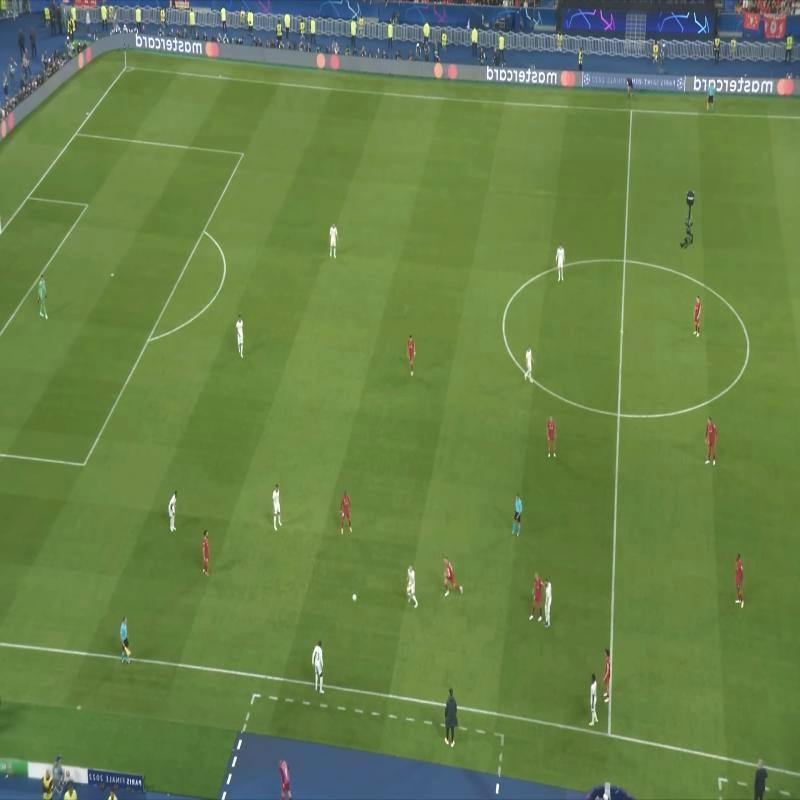1: (118, 60, 134, 75)
10: (196, 224, 211, 238)
11: (140, 333, 156, 350)
12: (76, 456, 92, 473)
13: (625, 103, 639, 118)
14: (617, 254, 632, 268)
15: (610, 407, 627, 423)
16: (598, 725, 618, 744)
2: (68, 125, 84, 143)
3: (19, 191, 34, 206)
7: (80, 199, 94, 213)
9: (236, 146, 251, 162)
c: (740, 338, 758, 356), (496, 316, 512, 330)
